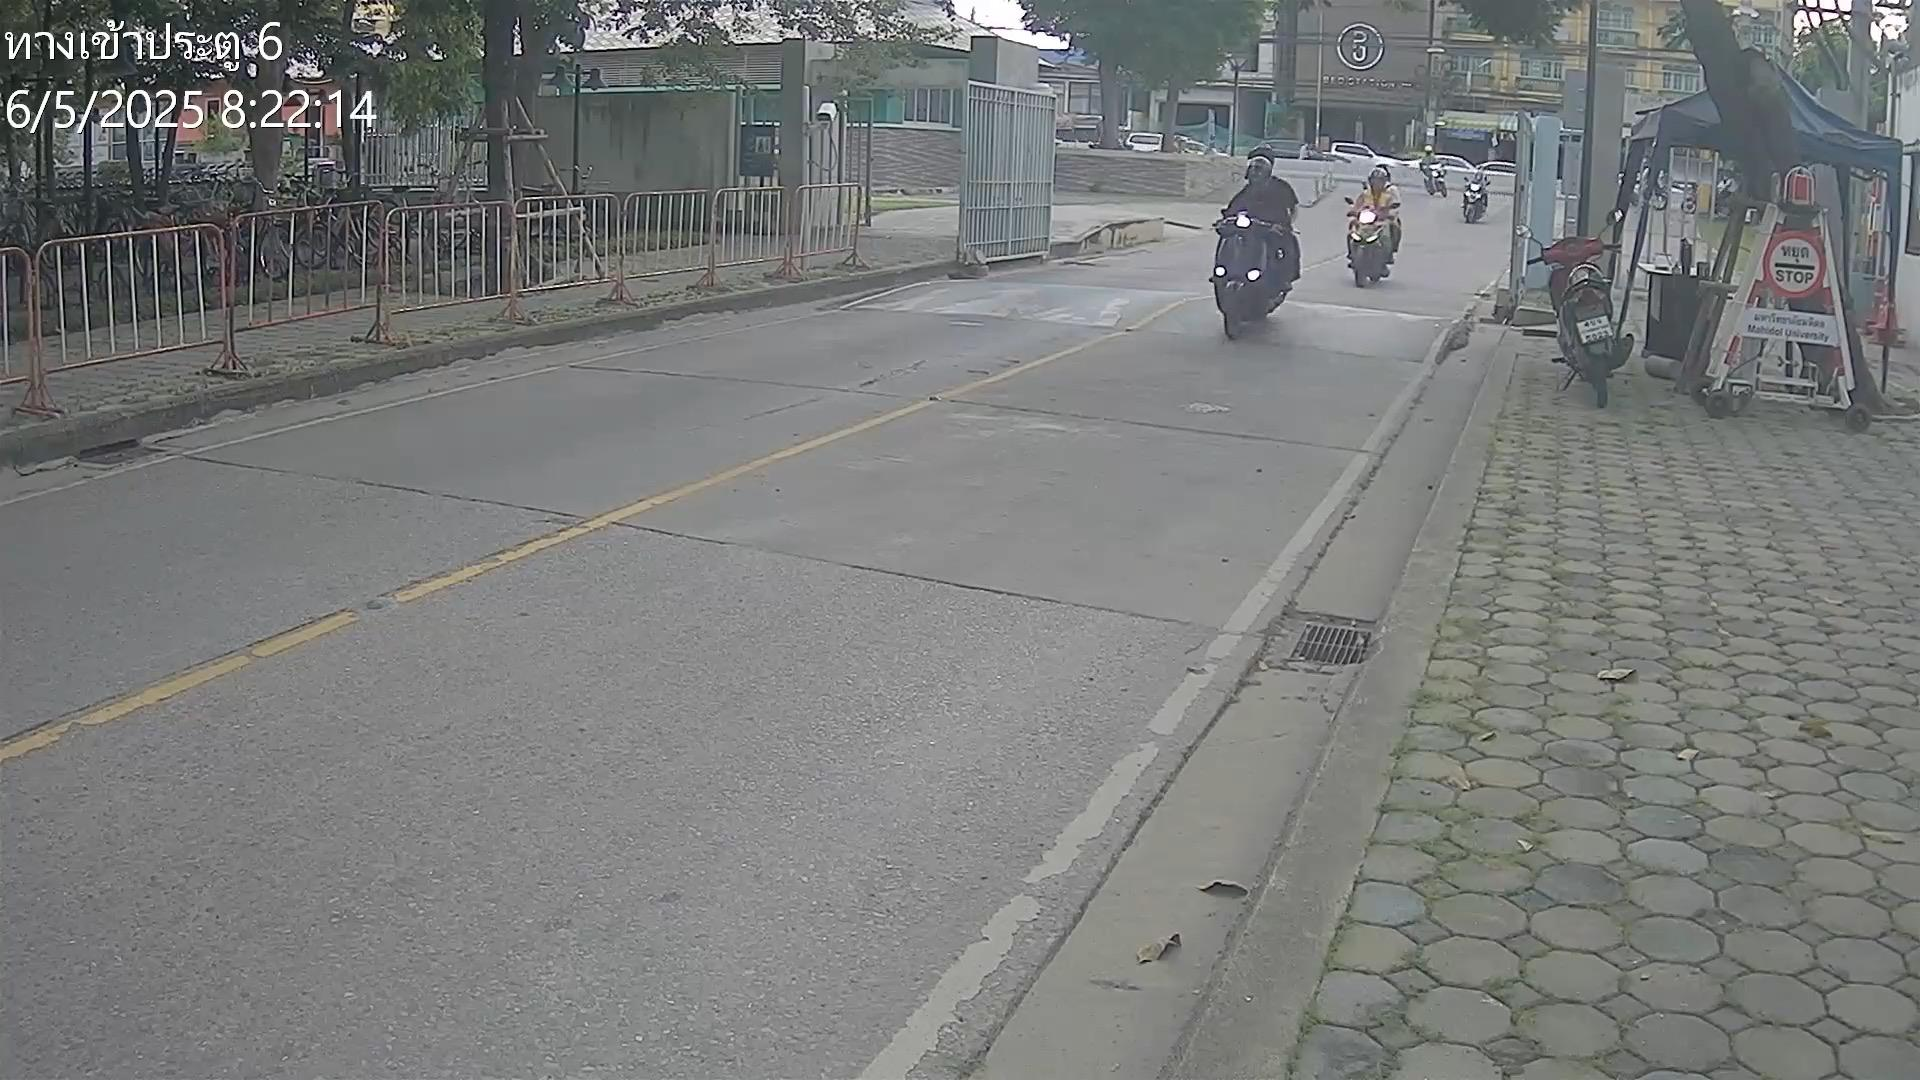With-Helmet: (1244, 156, 1273, 189), (1366, 167, 1389, 193)
